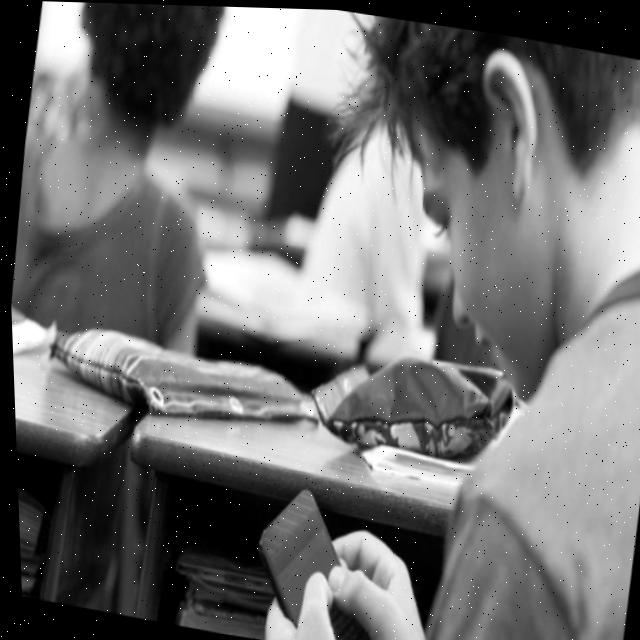phone: (237, 477, 396, 640)
